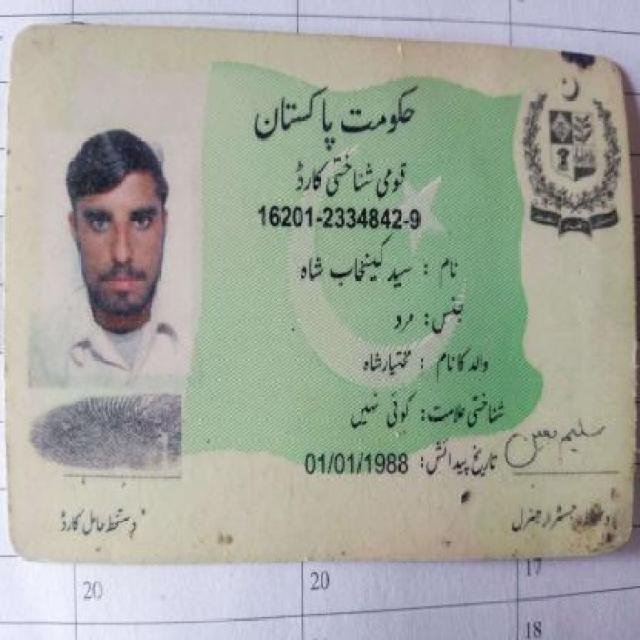Front: (6, 23, 629, 555)
